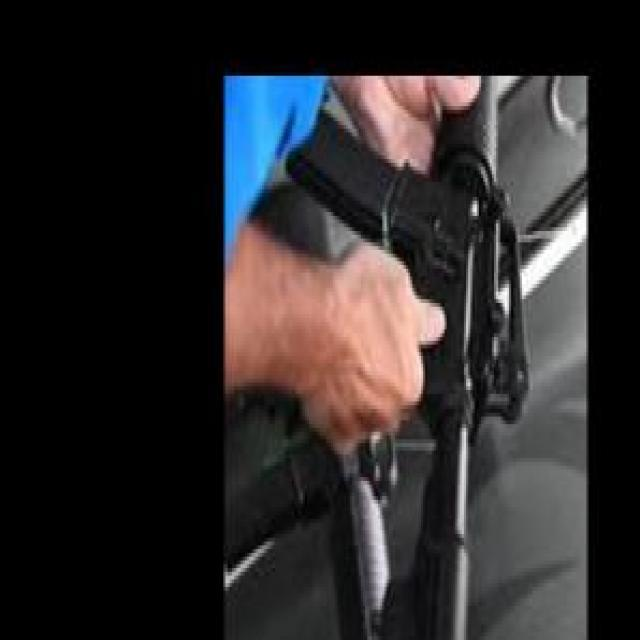weapon: (284, 75, 531, 640)
